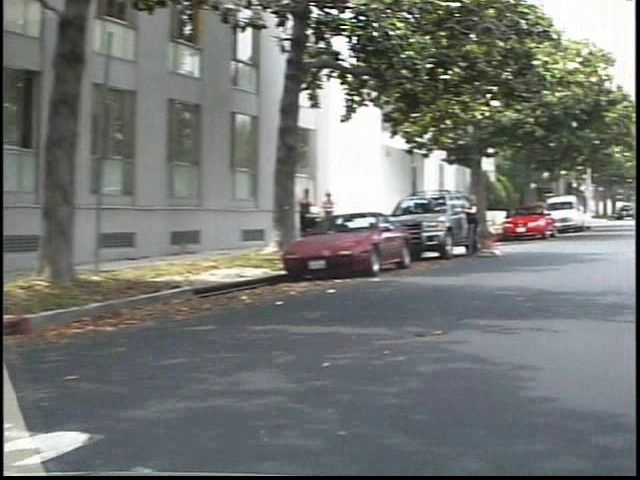person: (480, 192, 509, 264), (311, 183, 337, 251), (332, 188, 355, 247)
